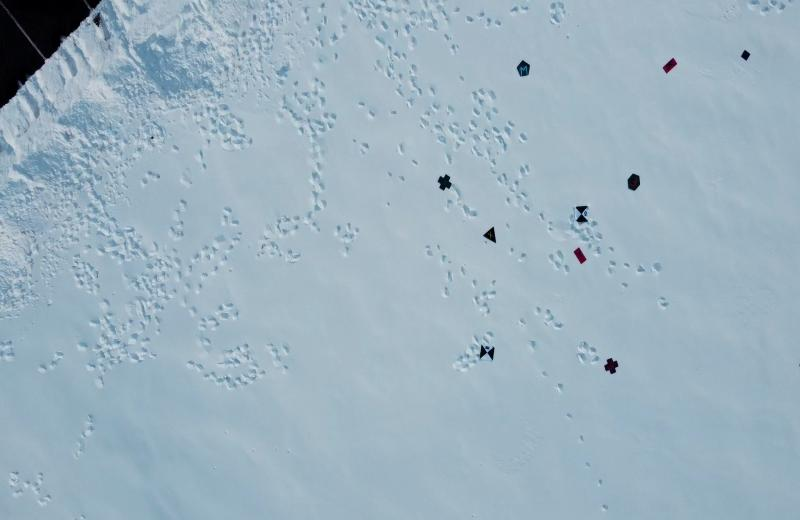Cross: (435, 172, 452, 190), (604, 358, 620, 376)
Hexagon: (625, 172, 641, 191)
Pentagon: (515, 58, 532, 79)
Rectangle: (662, 58, 678, 74), (574, 246, 586, 265)
Square: (738, 48, 752, 62)
Triangle: (483, 225, 499, 245)
